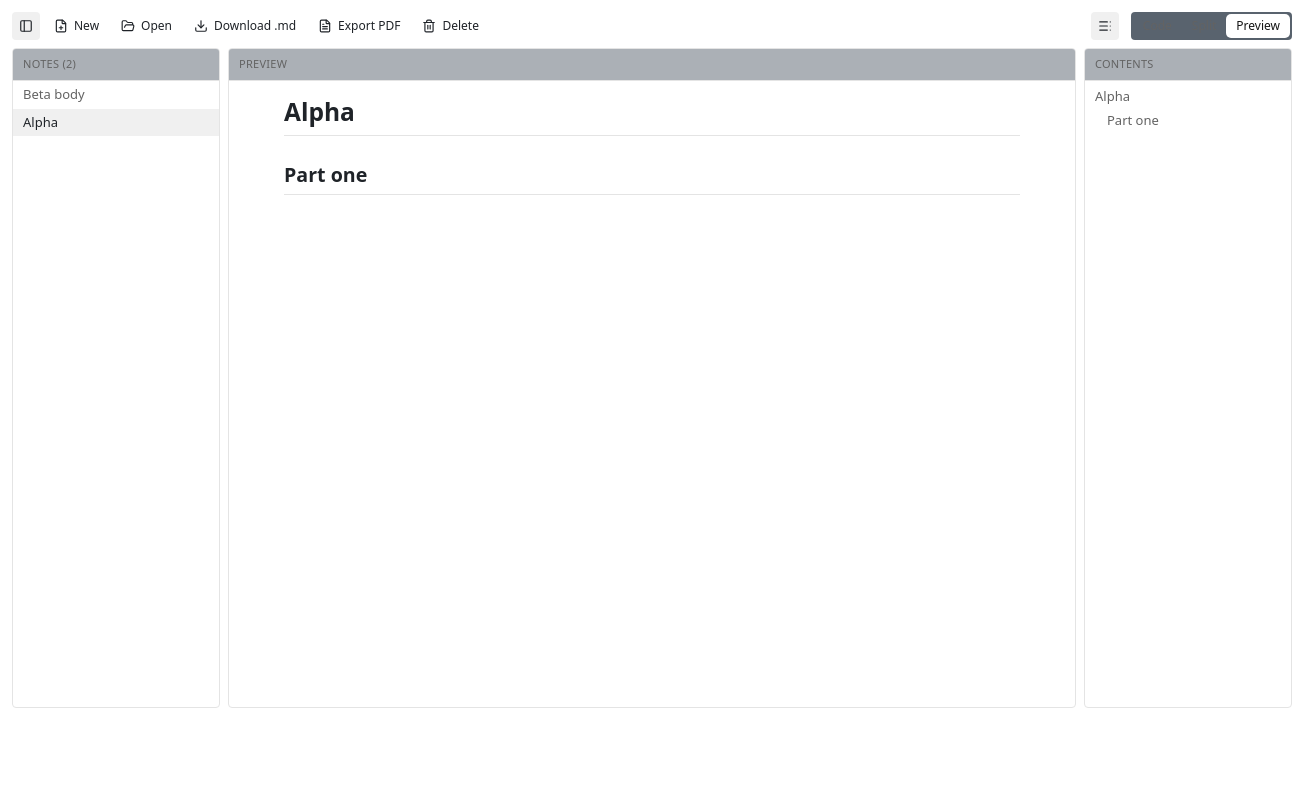
Test: hides the notes list and contents for a focused editor
Click the button named "Notes list".
click(26, 26)  # box [12,12,40,40]
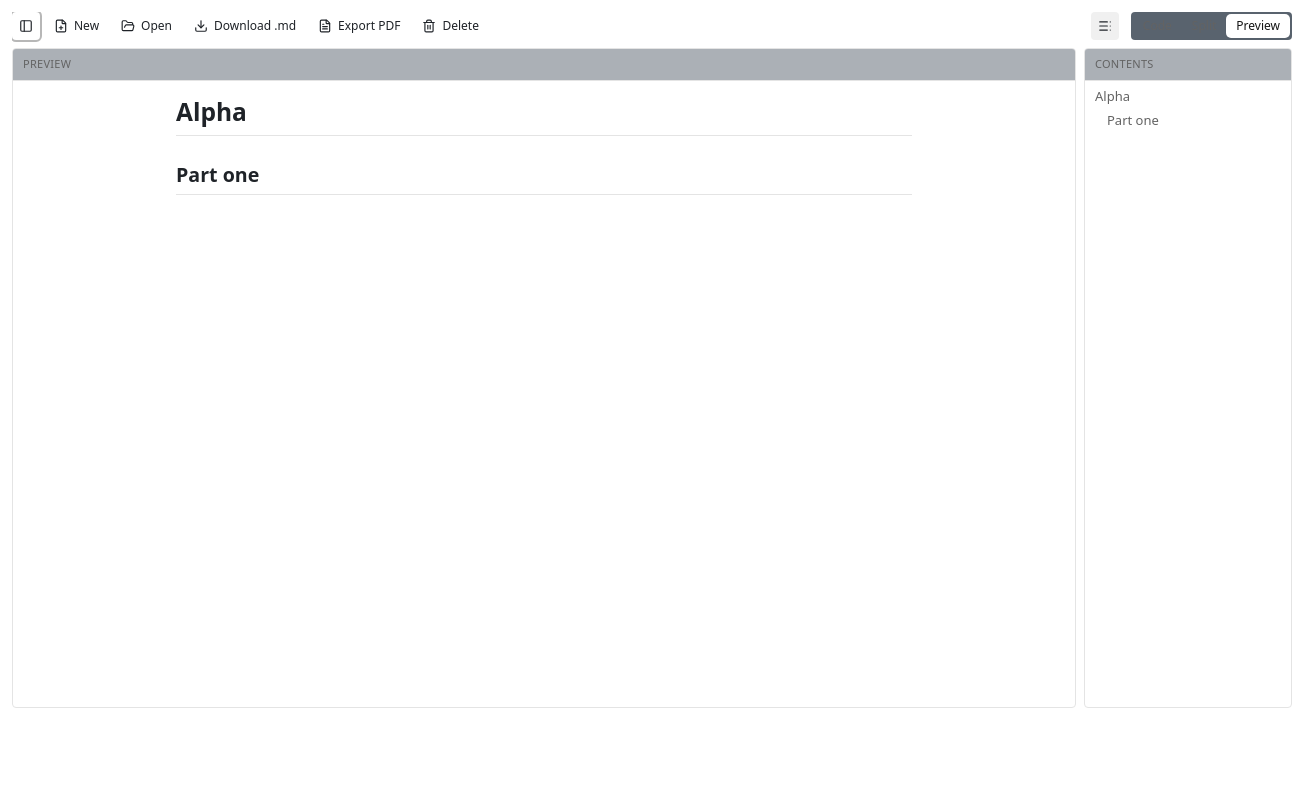
Click the button named "Contents".
click(1105, 26)  # box [1091,12,1119,40]
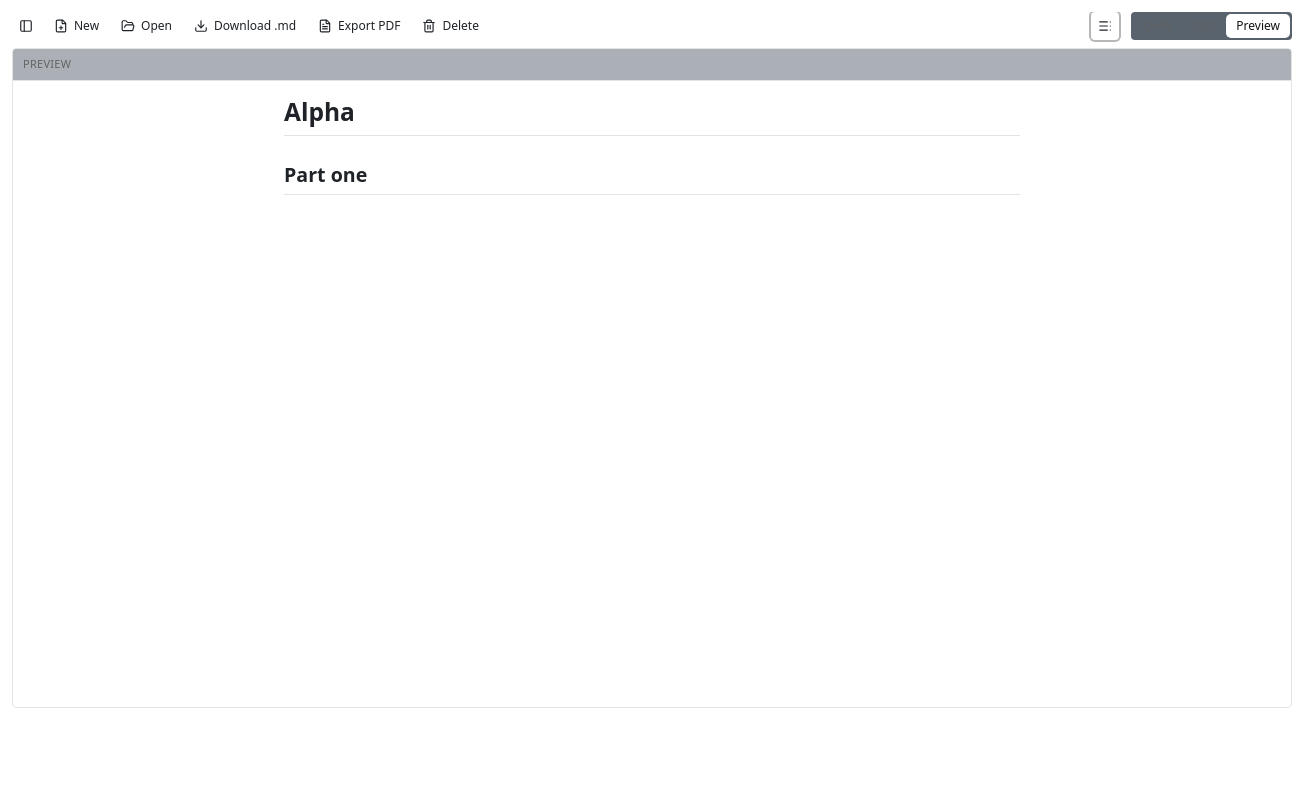
Expected: the heading "Notes" is not shown
Expected: the navigation bar is gone
